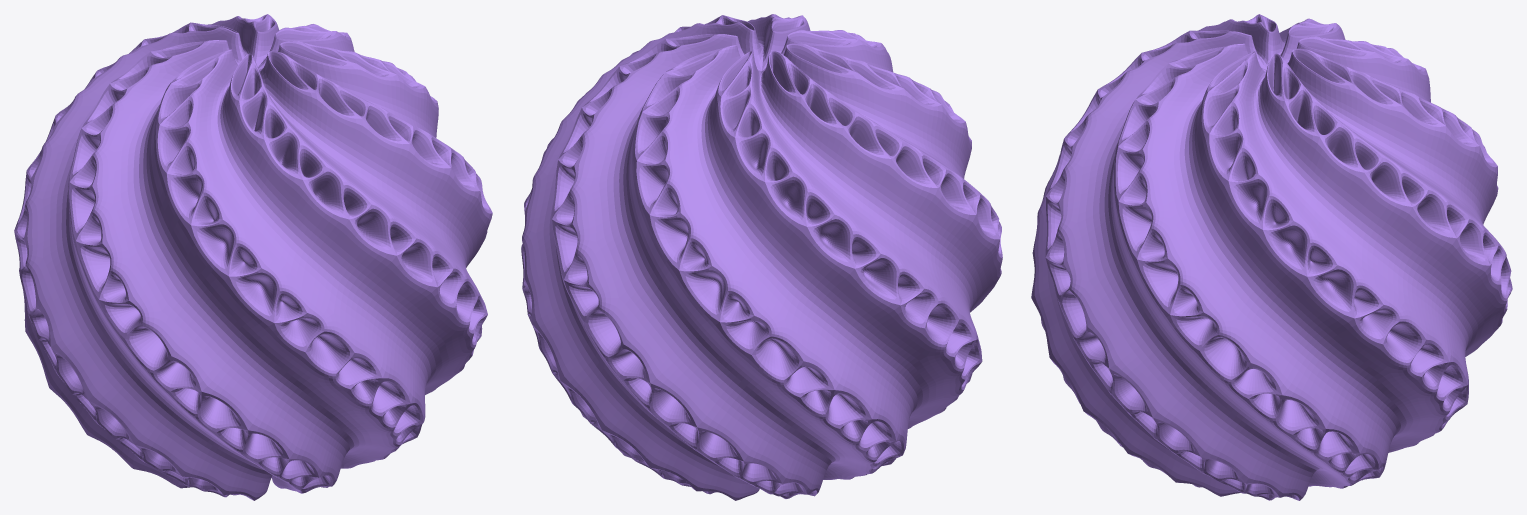
Rendered from Flow3d.glb.
3 views of the same model, side by side, from view 1: azimuth 30°, elevation 25°; view 2: azimuth 150°, elevation 25°; view 3: azimuth 270°, elevation 25° (orthographic).
Visible parts, largest first — view 1: Sphere; view 2: Sphere; view 3: Sphere.
Part boxes in pixels (box(x1,y1,x2,y2)): Sphere: box(14, 14, 492, 500); Sphere: box(521, 14, 1002, 500); Sphere: box(1031, 14, 1512, 500).
Size of the model in its own units: 2.45 by 2.44 by 2.45.
